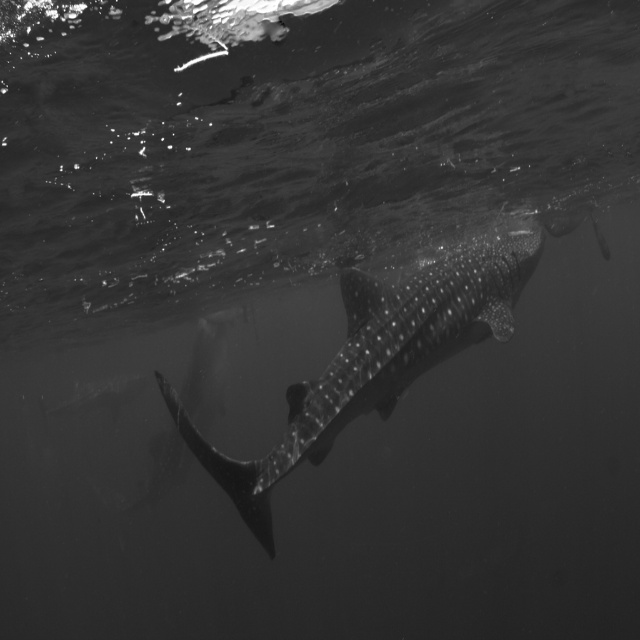Shark: (158, 221, 545, 552)
